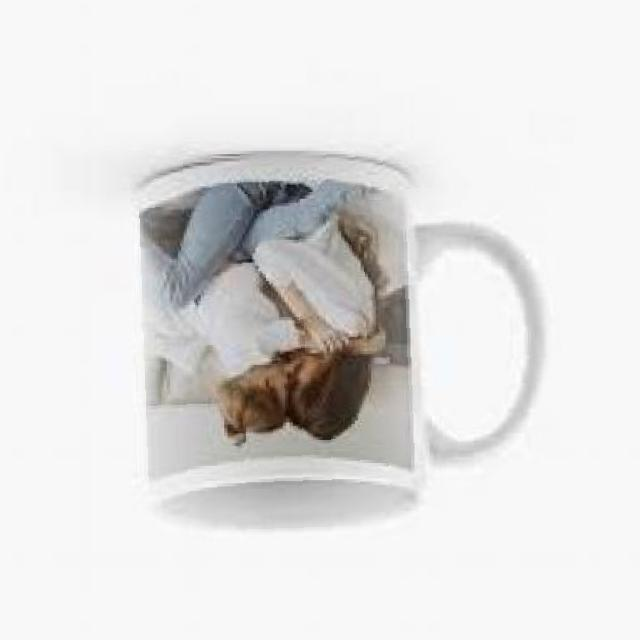cup: (129, 144, 558, 543)
